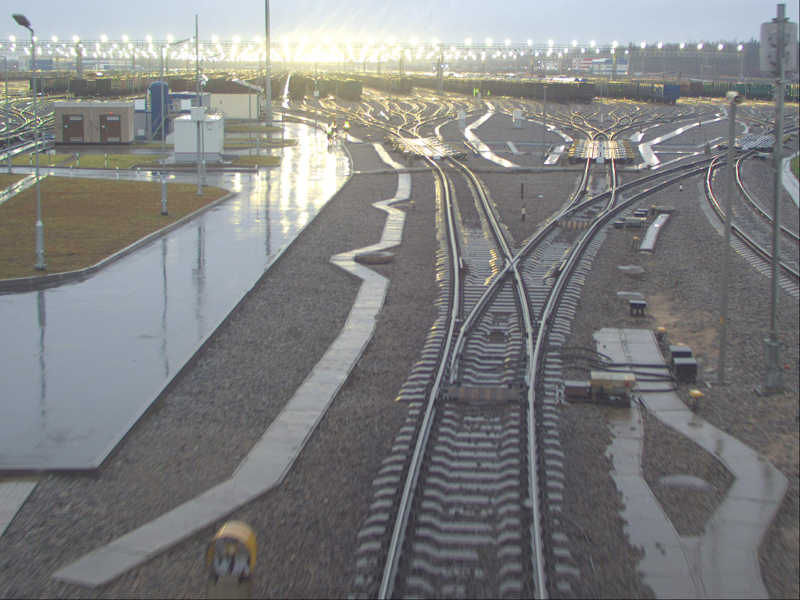left: (445, 246, 539, 390)
right: (553, 187, 615, 219)
